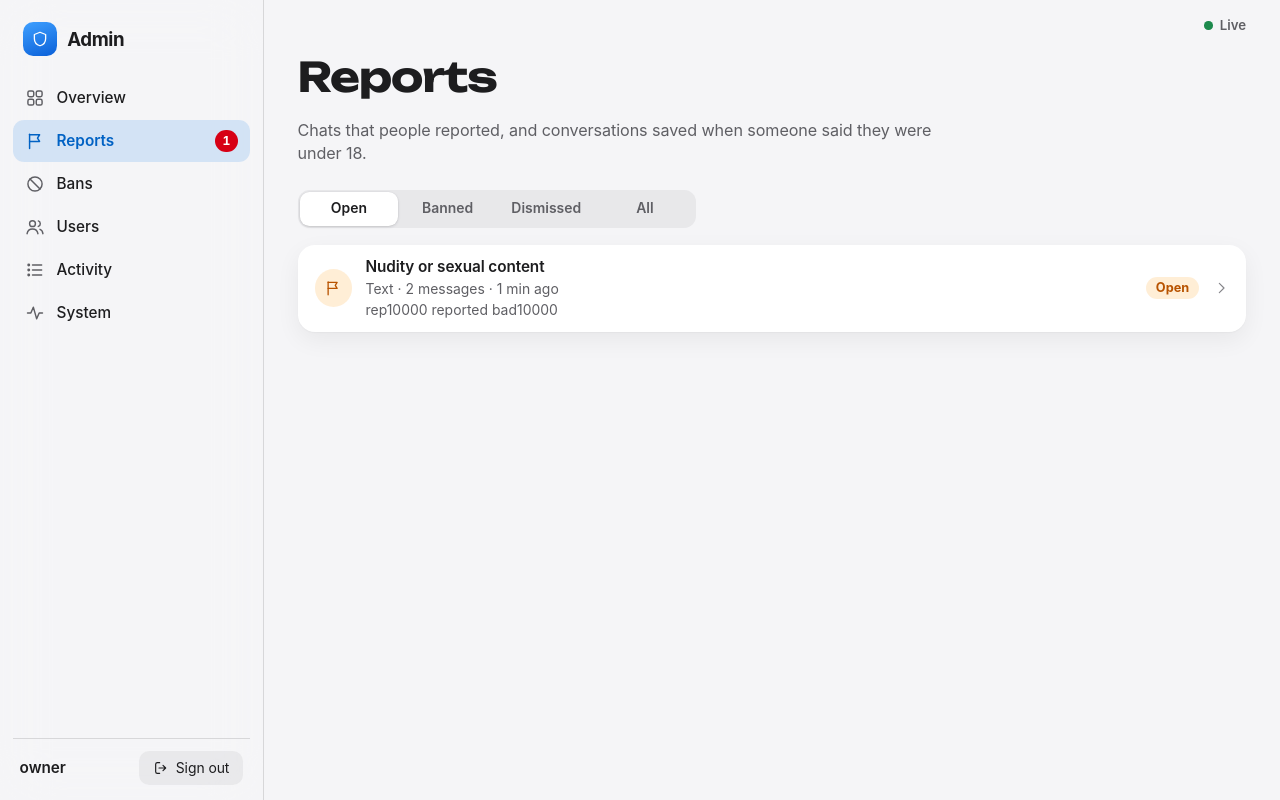
Test: reports › closes with the Close button and Escape, and returns to the list
Click the button "Nudity".
click(333, 288)  # box 298,244 -> 1246,332
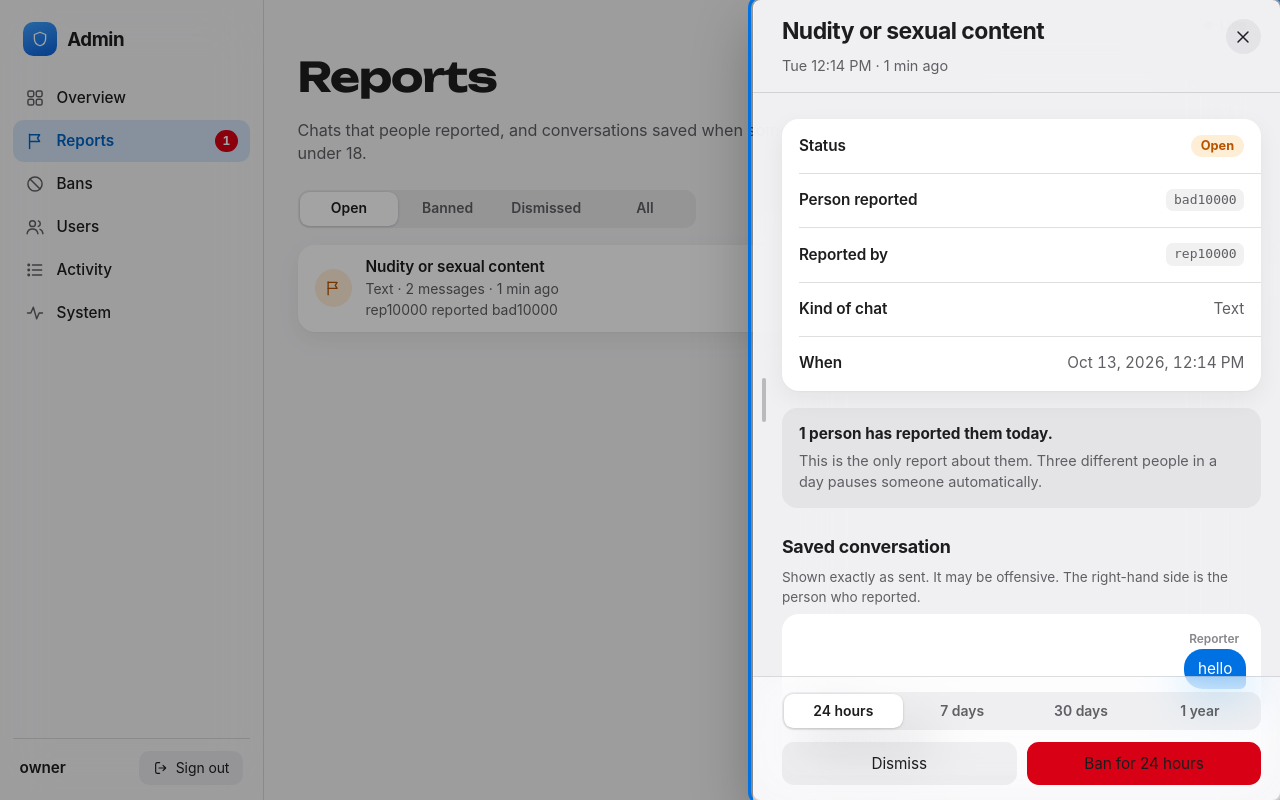
Check: the dialog is shown, box 753,0 -> 1279,799
Click the button named "Close".
click(1243, 37)  # box 1226,19 -> 1261,54
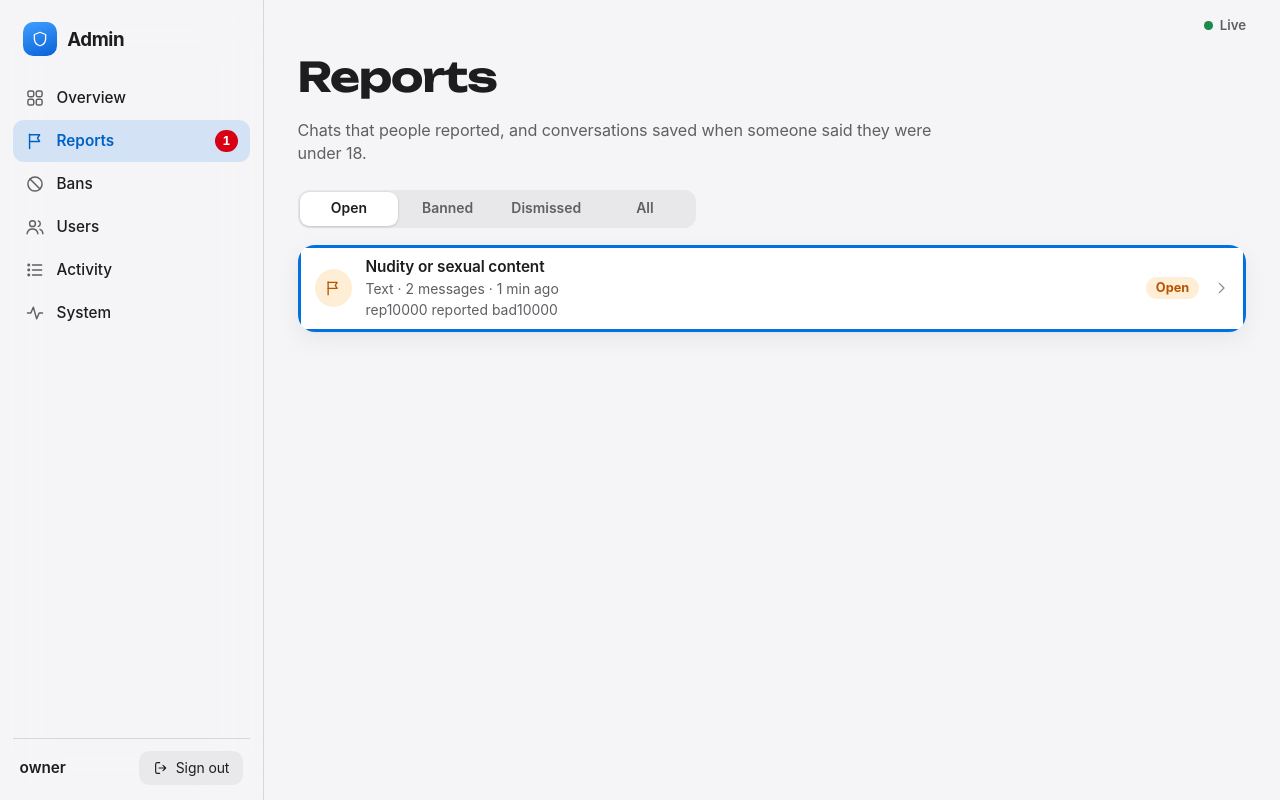
Check: the dialog is gone
Click the button "Nudity".
click(333, 288)  # box 298,244 -> 1246,332
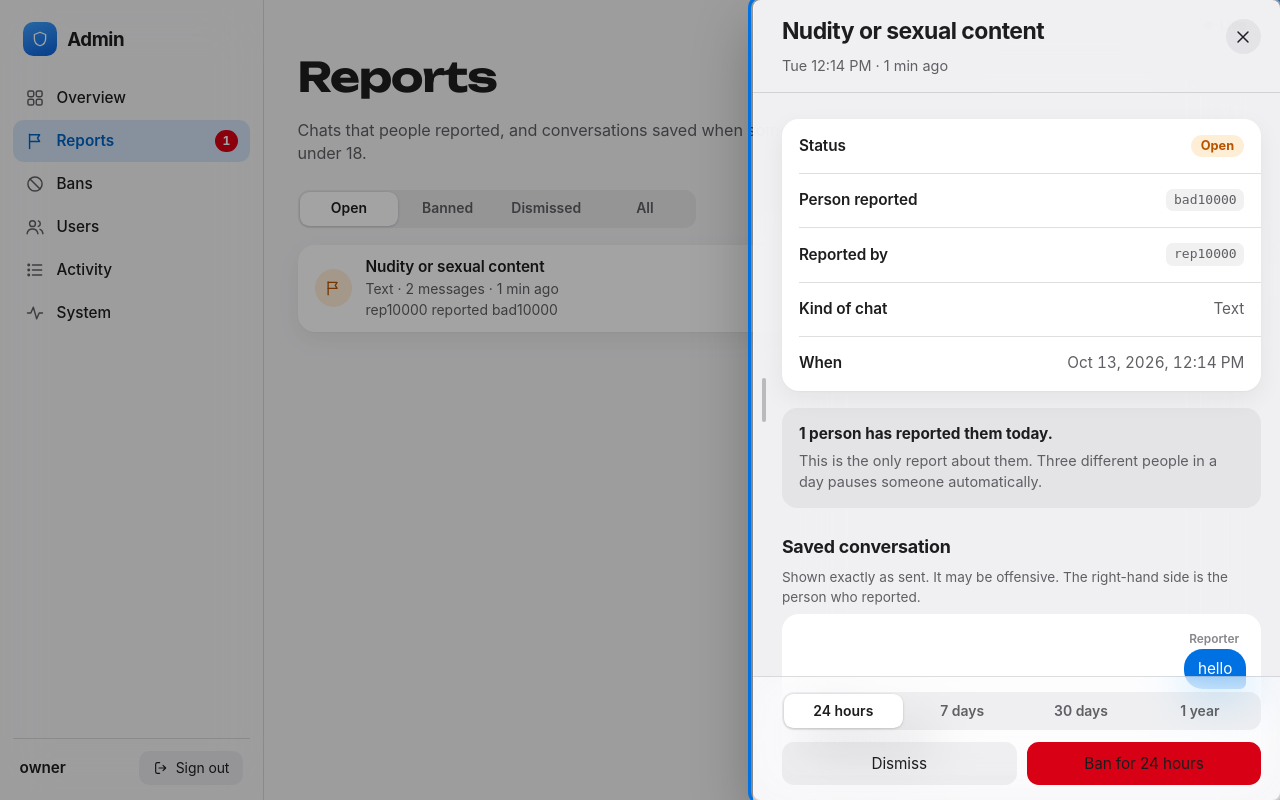
Check: the dialog is shown, box 753,0 -> 1279,799
Press Escape
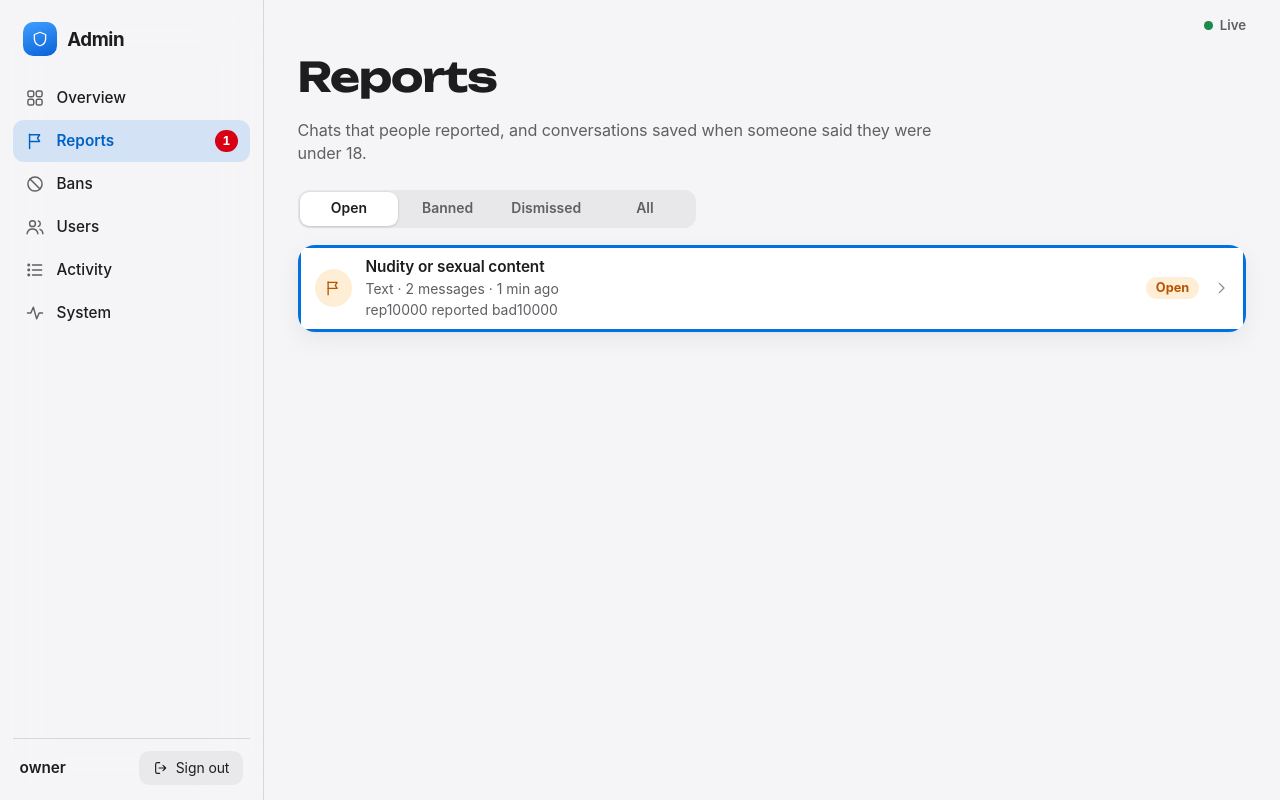
Check: the dialog is gone
